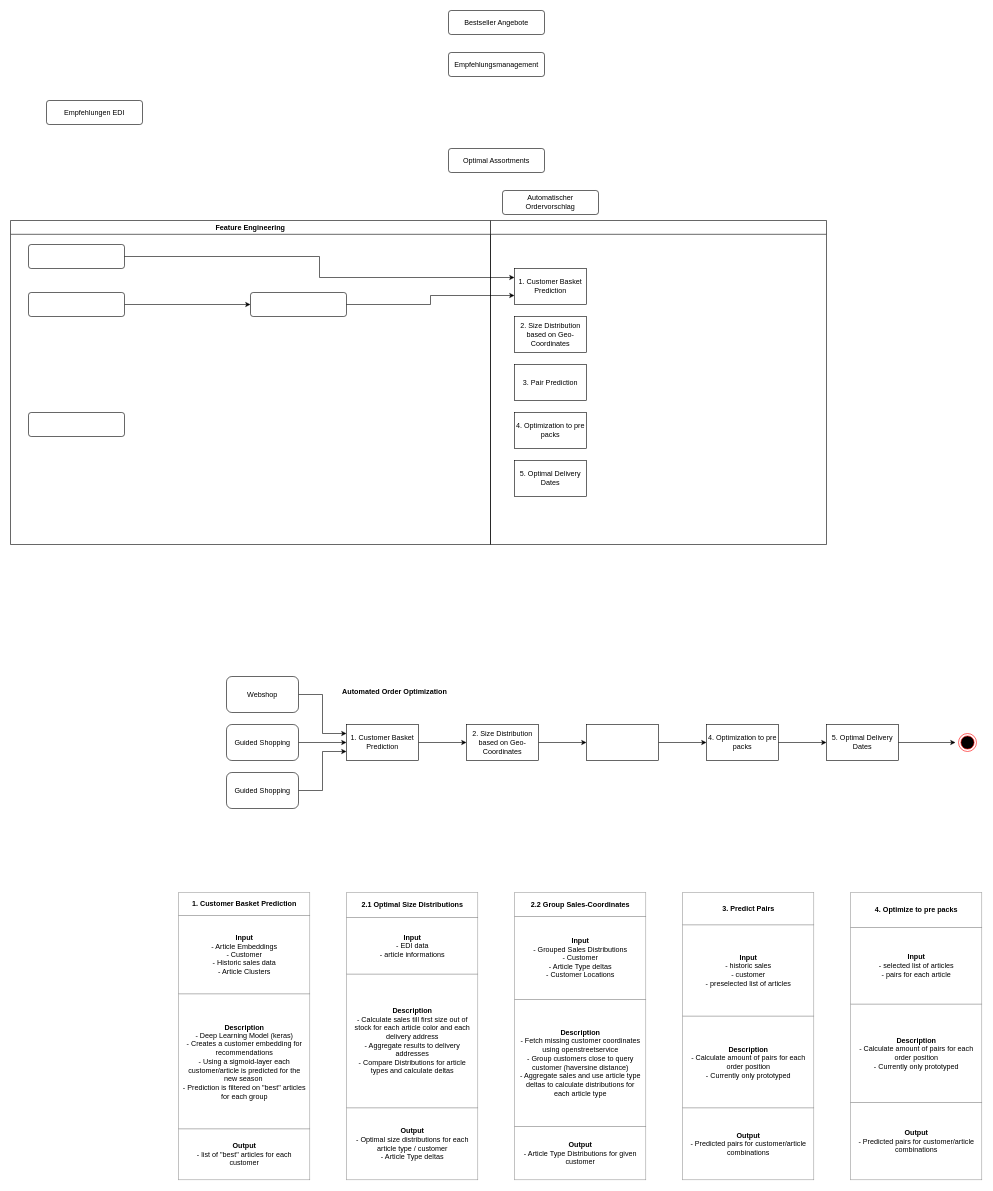
Image size: 993x1191. Some labels were removed from this diagram. The centre of each missing label's shape, as x and y in pixels:
3. Predict Pairs: [622,742]
Assortment Analysis: [76,424]
Customer Clustering: [76,256]
Final Process: [658,382]
Similarity Check: [298,304]
Similarity Index: [76,304]
